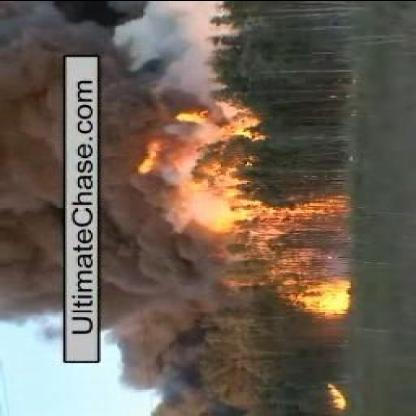-: (100, 25, 180, 388), (6, 76, 58, 315)
foggia-v2-map80-epoch100 - v1 4323: (304, 283, 353, 316)
